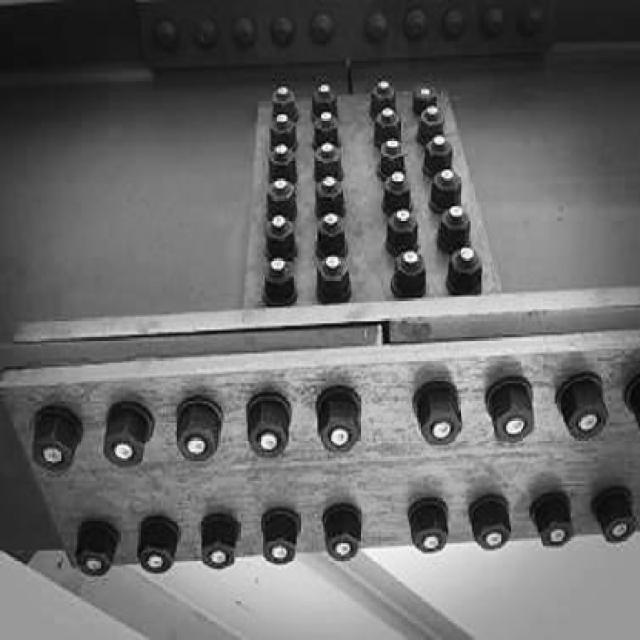Regular bolt: (479, 369, 541, 447), (548, 368, 612, 440), (409, 378, 471, 449), (310, 385, 373, 454), (98, 401, 160, 466), (242, 394, 299, 459), (172, 398, 227, 465), (588, 481, 640, 550), (27, 408, 80, 474), (191, 503, 241, 571), (71, 518, 125, 580), (402, 496, 453, 561), (130, 513, 182, 576), (254, 504, 304, 569), (461, 493, 514, 553), (531, 486, 579, 551), (319, 504, 366, 567), (384, 253, 433, 303), (440, 248, 490, 296), (256, 253, 302, 305), (314, 256, 359, 304), (383, 205, 422, 257), (261, 81, 307, 123), (318, 216, 358, 261), (369, 109, 413, 149), (314, 177, 352, 221), (436, 207, 476, 247), (368, 139, 414, 172), (311, 78, 348, 119), (431, 173, 474, 208), (311, 111, 351, 146), (263, 213, 299, 250), (269, 143, 301, 184), (380, 170, 413, 209), (367, 81, 403, 116), (418, 139, 458, 170), (308, 145, 345, 177), (416, 109, 452, 138), (267, 176, 295, 212), (413, 84, 440, 114), (269, 115, 293, 143)
